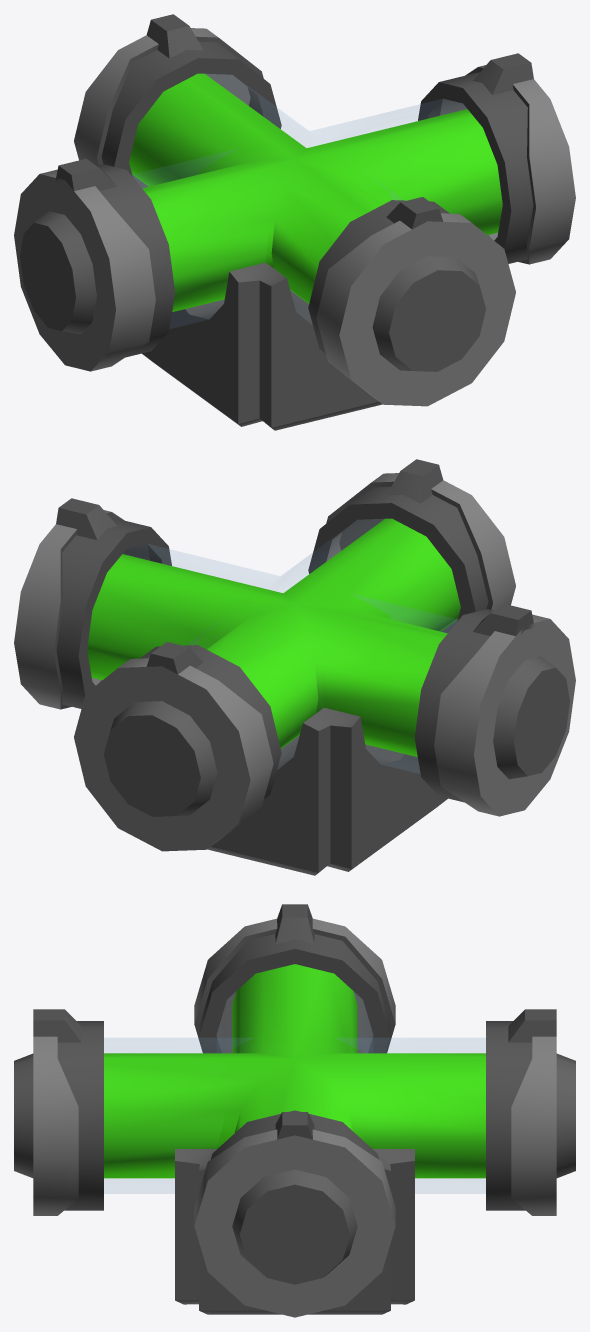
The model's file is Liquid_Green_Pipe_04_Way.fbx.
The picture shows the model from 3 angles, top to bottom: view 1: azimuth 30°, elevation 25°; view 2: azimuth 150°, elevation 25°; view 3: azimuth 270°, elevation 25°; orthographic projection.
Visible parts, largest first — view 1: Liquid_Green_Pipe_04_Way; view 2: Liquid_Green_Pipe_04_Way; view 3: Liquid_Green_Pipe_04_Way.
Part boxes in pixels (<box>): Liquid_Green_Pipe_04_Way: <box>14,14,575,430</box>; Liquid_Green_Pipe_04_Way: <box>14,459,575,875</box>; Liquid_Green_Pipe_04_Way: <box>14,904,575,1317</box>.
Size of the model in its own units: 215 by 107 by 215.
